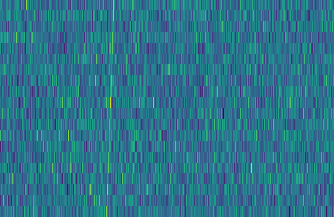signal: (101, 0, 117, 217)
